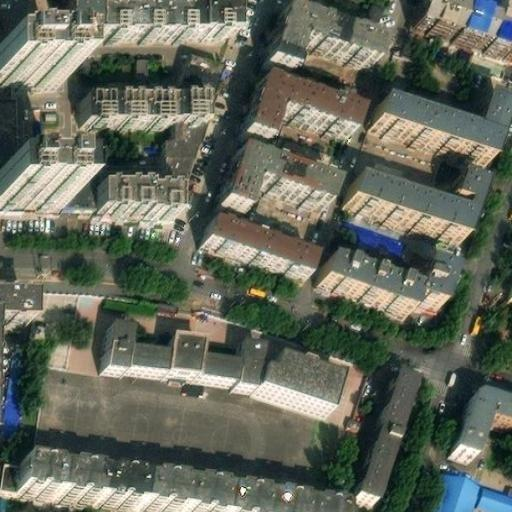building: (18, 457, 342, 512), (100, 317, 261, 384), (341, 176, 477, 243), (367, 97, 503, 163), (352, 369, 415, 502), (314, 252, 447, 309), (245, 66, 361, 128), (223, 138, 336, 200), (198, 219, 309, 275), (256, 347, 341, 403), (155, 115, 207, 206), (90, 2, 233, 30), (87, 87, 209, 116), (336, 216, 406, 260), (425, 463, 482, 512), (184, 46, 226, 111), (97, 180, 176, 212), (0, 48, 65, 78), (0, 369, 23, 431), (0, 22, 11, 48)
